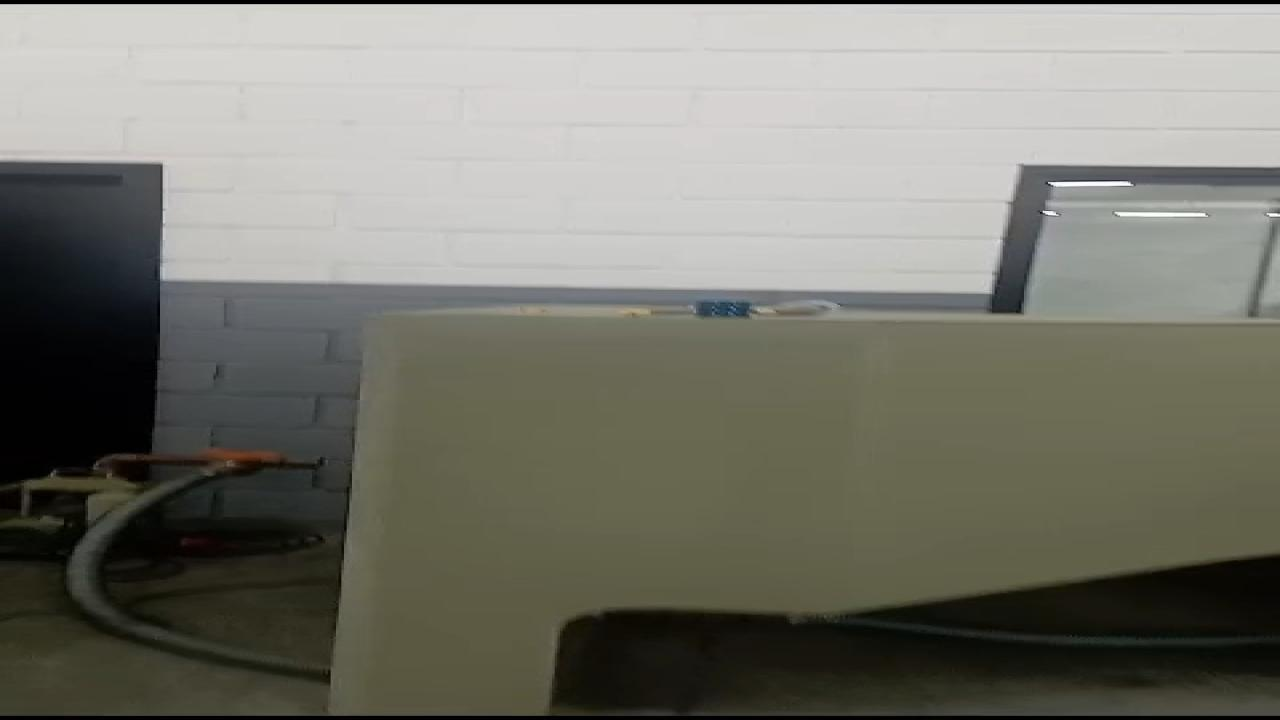Cube: (696, 301, 754, 318)
